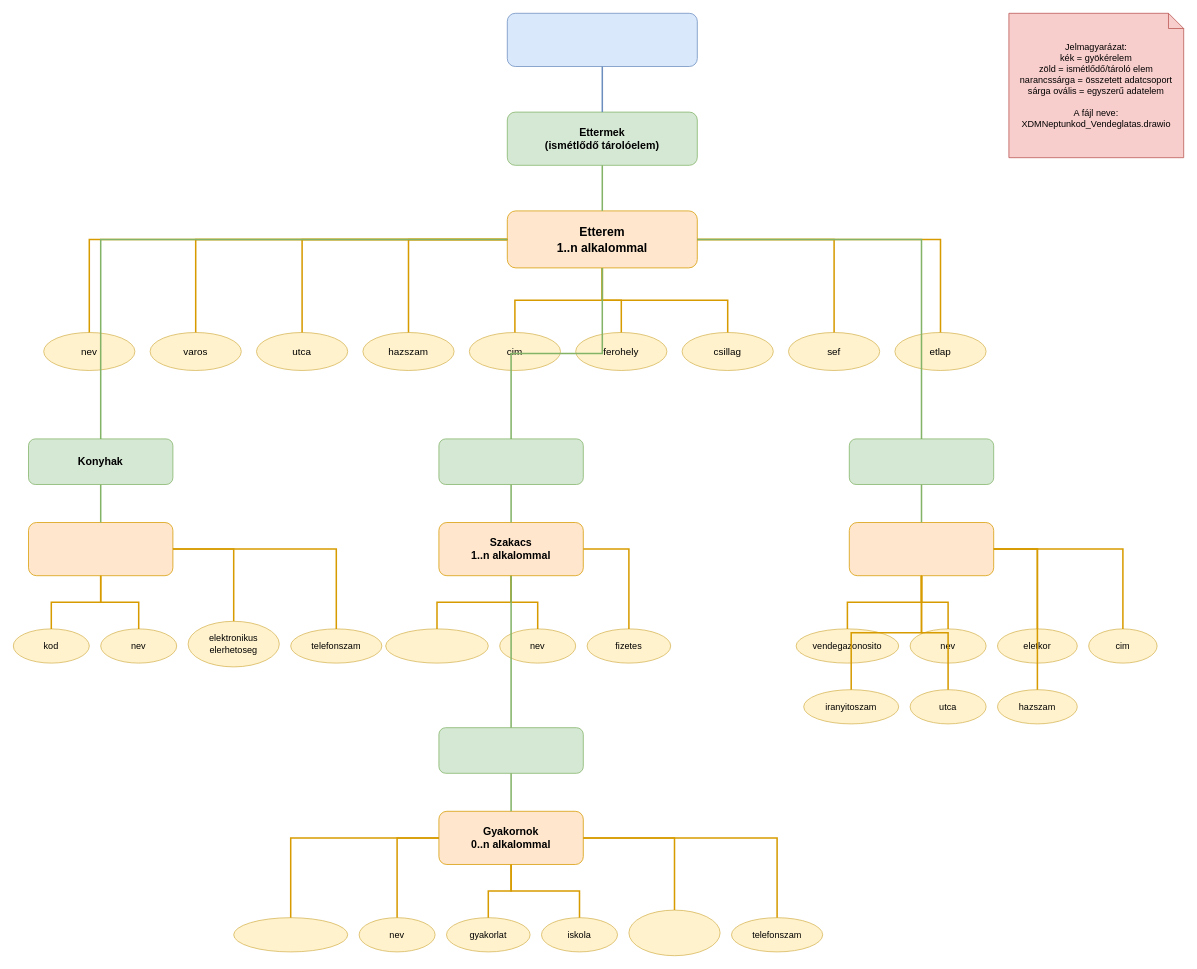
The diagram is 1197 pixels wide and 969 high, and some of its shapes have lost their labels. The centre of each missing label's shape, as x and y in pixels:
"gyakornokazonosito" goes at (x=290, y=934).
"Gyakornokok" goes at (x=510, y=750).
"Konyha 1..n alkalommal" goes at (x=100, y=549).
"szakacsazonosito" goes at (x=436, y=645).
"Szakacsok" goes at (x=510, y=461).
"szuletesi datum" goes at (x=674, y=932).
"Vendeg 0..n alkalommal" goes at (x=921, y=549).
"Vendegek" goes at (x=921, y=461).
"Vendeglatas (gyökérelem)" goes at (x=602, y=39).
